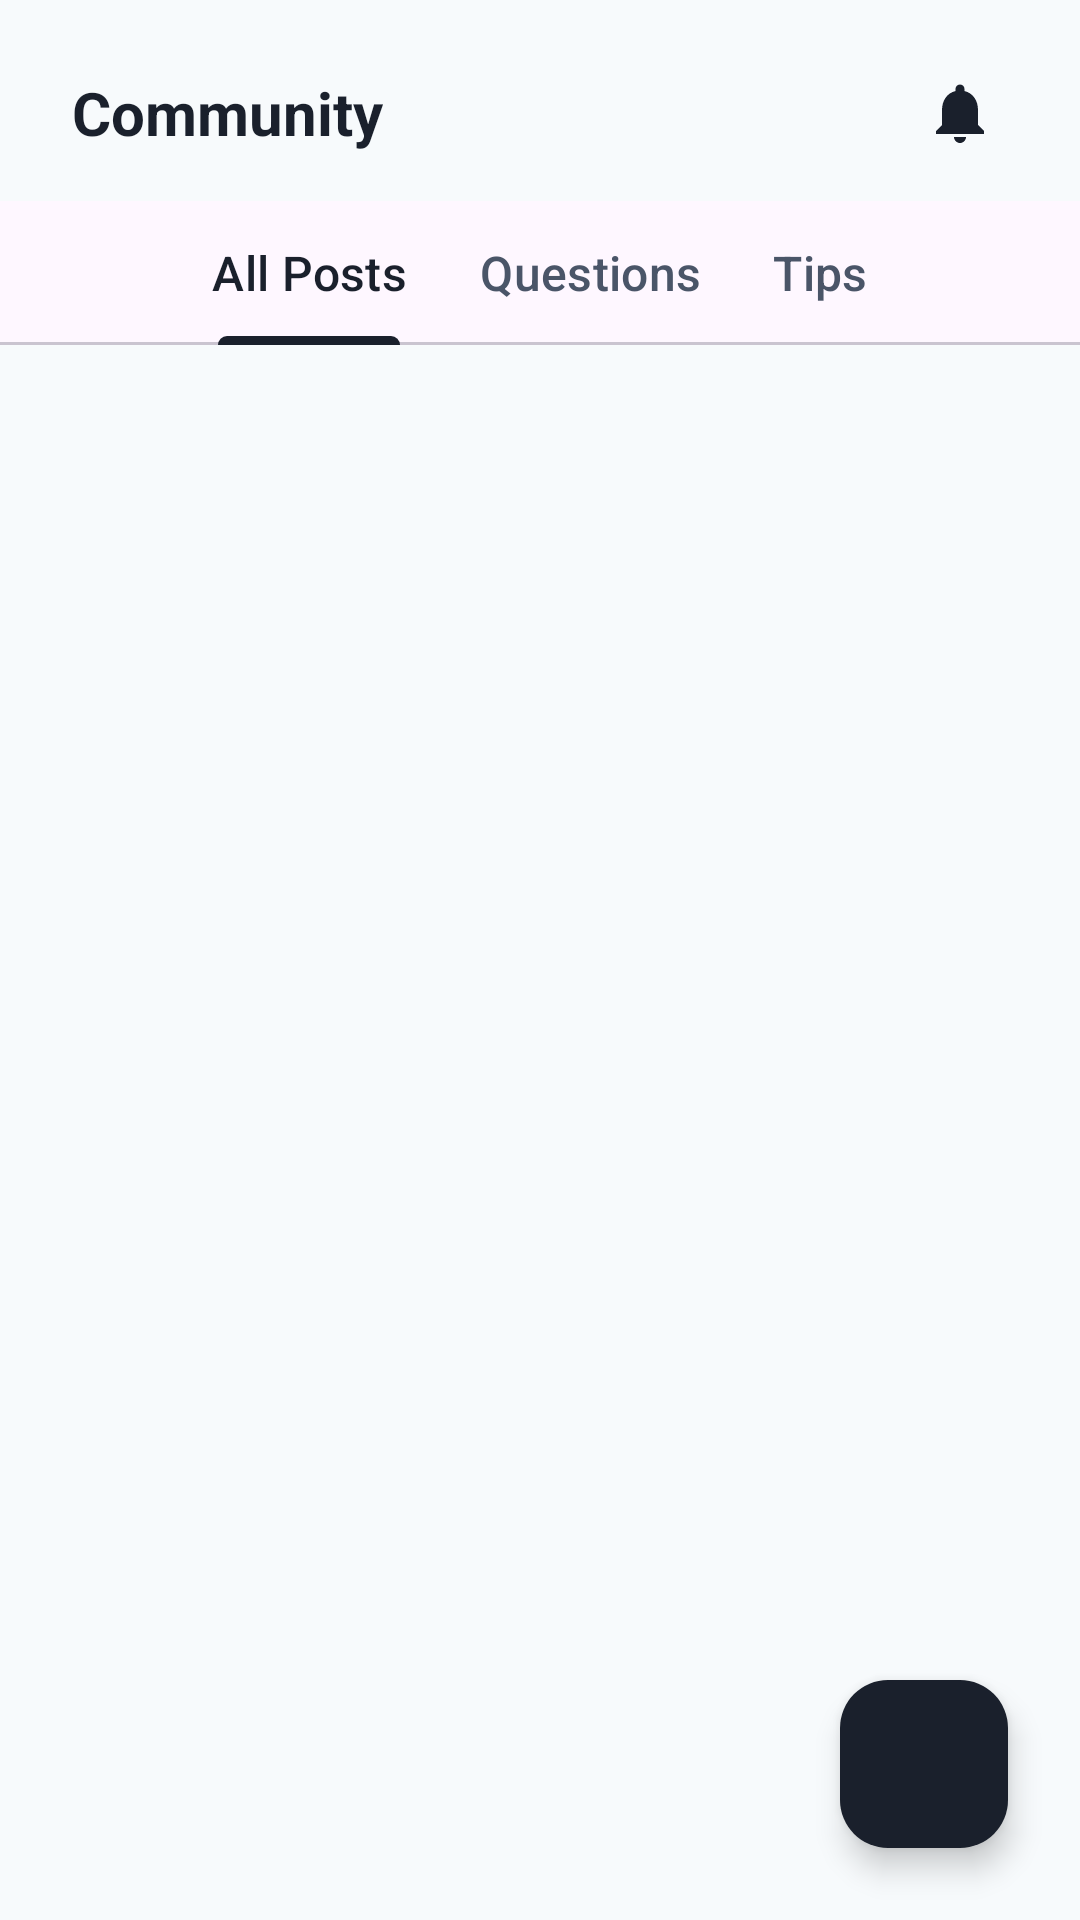

Named icons in this screenshot (1080 x 1920) and their bounding boxes, {"x1": x1, "y1": y1, "x2": x2, "y2": y2}:
Notifications: {"x1": 936, "y1": 84, "x2": 984, "y2": 143}
